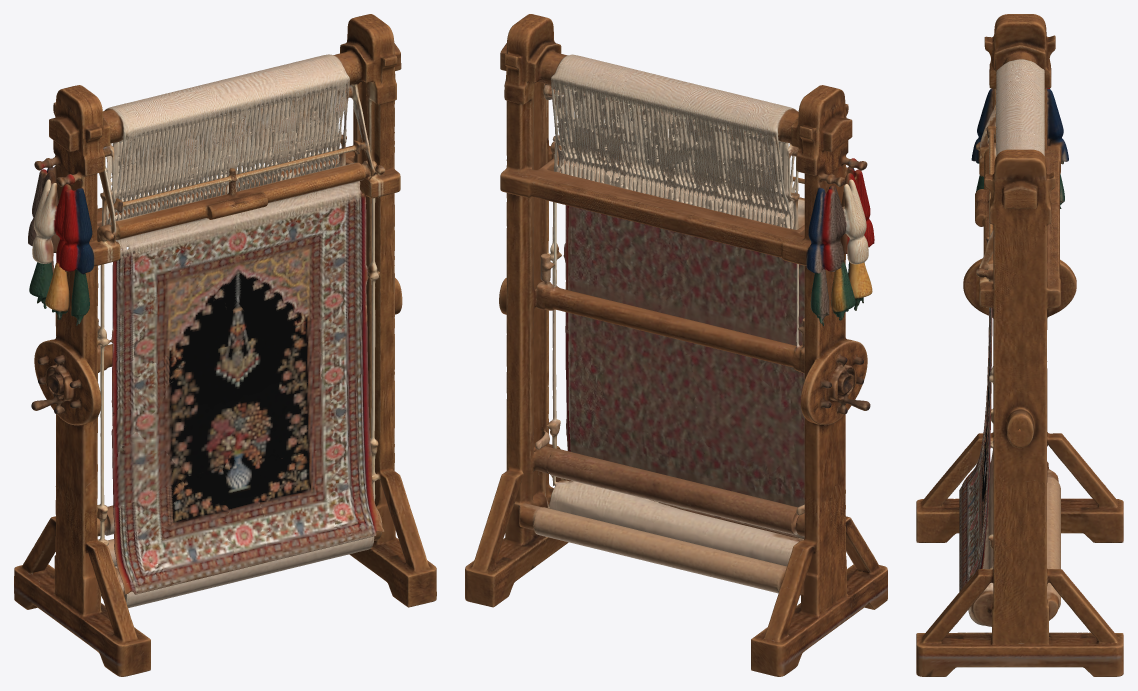
File: Mihrapli.glb
3 views of the same model, side by side, from view 1: azimuth 30°, elevation 25°; view 2: azimuth 150°, elevation 25°; view 3: azimuth 270°, elevation 25° (orthographic). The views are drawn at different scales.
Size of the model in its own units: 1.34 by 1.9 by 0.6902.
1 material, 1 textured.
